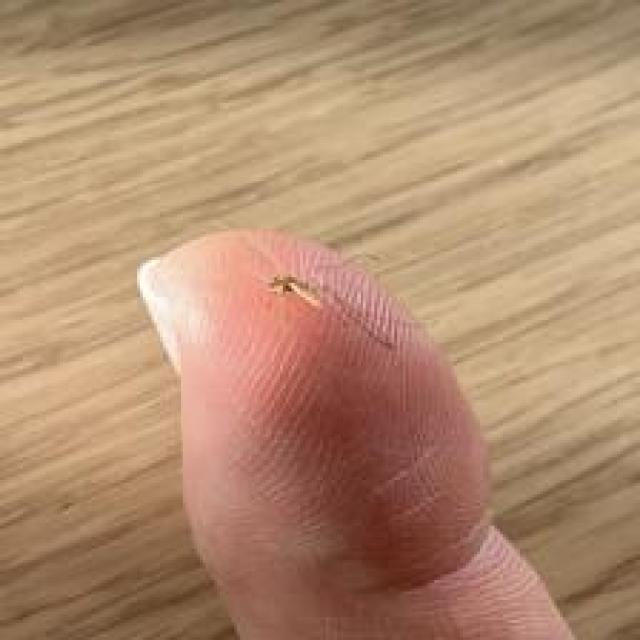Culex: (267, 273, 324, 310)
